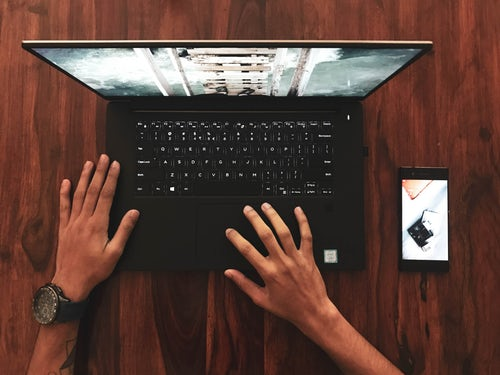phone: (395, 163, 451, 271)
